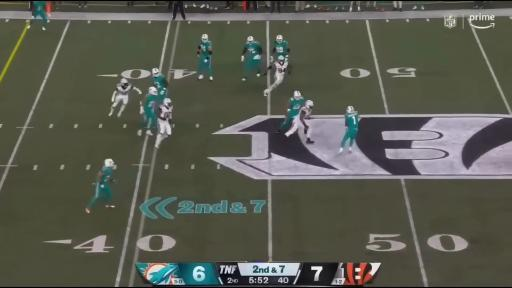Helmet: (148, 86, 158, 96), (293, 90, 302, 101), (163, 98, 173, 107), (277, 56, 286, 65), (105, 160, 114, 168), (306, 100, 314, 109), (276, 34, 283, 43), (248, 36, 255, 45), (152, 68, 159, 77), (121, 79, 128, 88), (201, 35, 208, 43), (347, 107, 355, 113)
Jersey: (289, 98, 305, 117), (245, 42, 262, 59), (345, 112, 359, 129), (99, 167, 112, 184), (144, 94, 157, 111), (158, 105, 172, 120), (199, 41, 211, 58), (116, 84, 134, 95), (274, 41, 287, 56), (153, 74, 165, 88), (275, 62, 287, 76), (156, 87, 167, 101), (300, 106, 311, 118), (34, 2, 46, 11)
Player: (86, 159, 114, 213), (285, 100, 314, 143), (109, 79, 141, 117), (277, 91, 305, 133), (339, 106, 359, 153), (242, 36, 263, 80), (264, 56, 287, 96), (138, 87, 157, 135), (155, 98, 172, 147), (271, 35, 291, 74), (198, 34, 213, 81), (28, 2, 47, 30), (152, 68, 168, 88), (157, 88, 167, 102)
